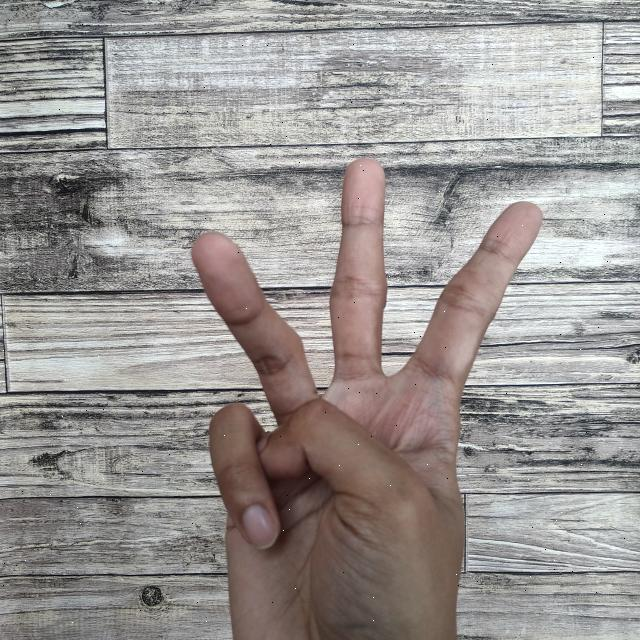W: (180, 152, 549, 640)
